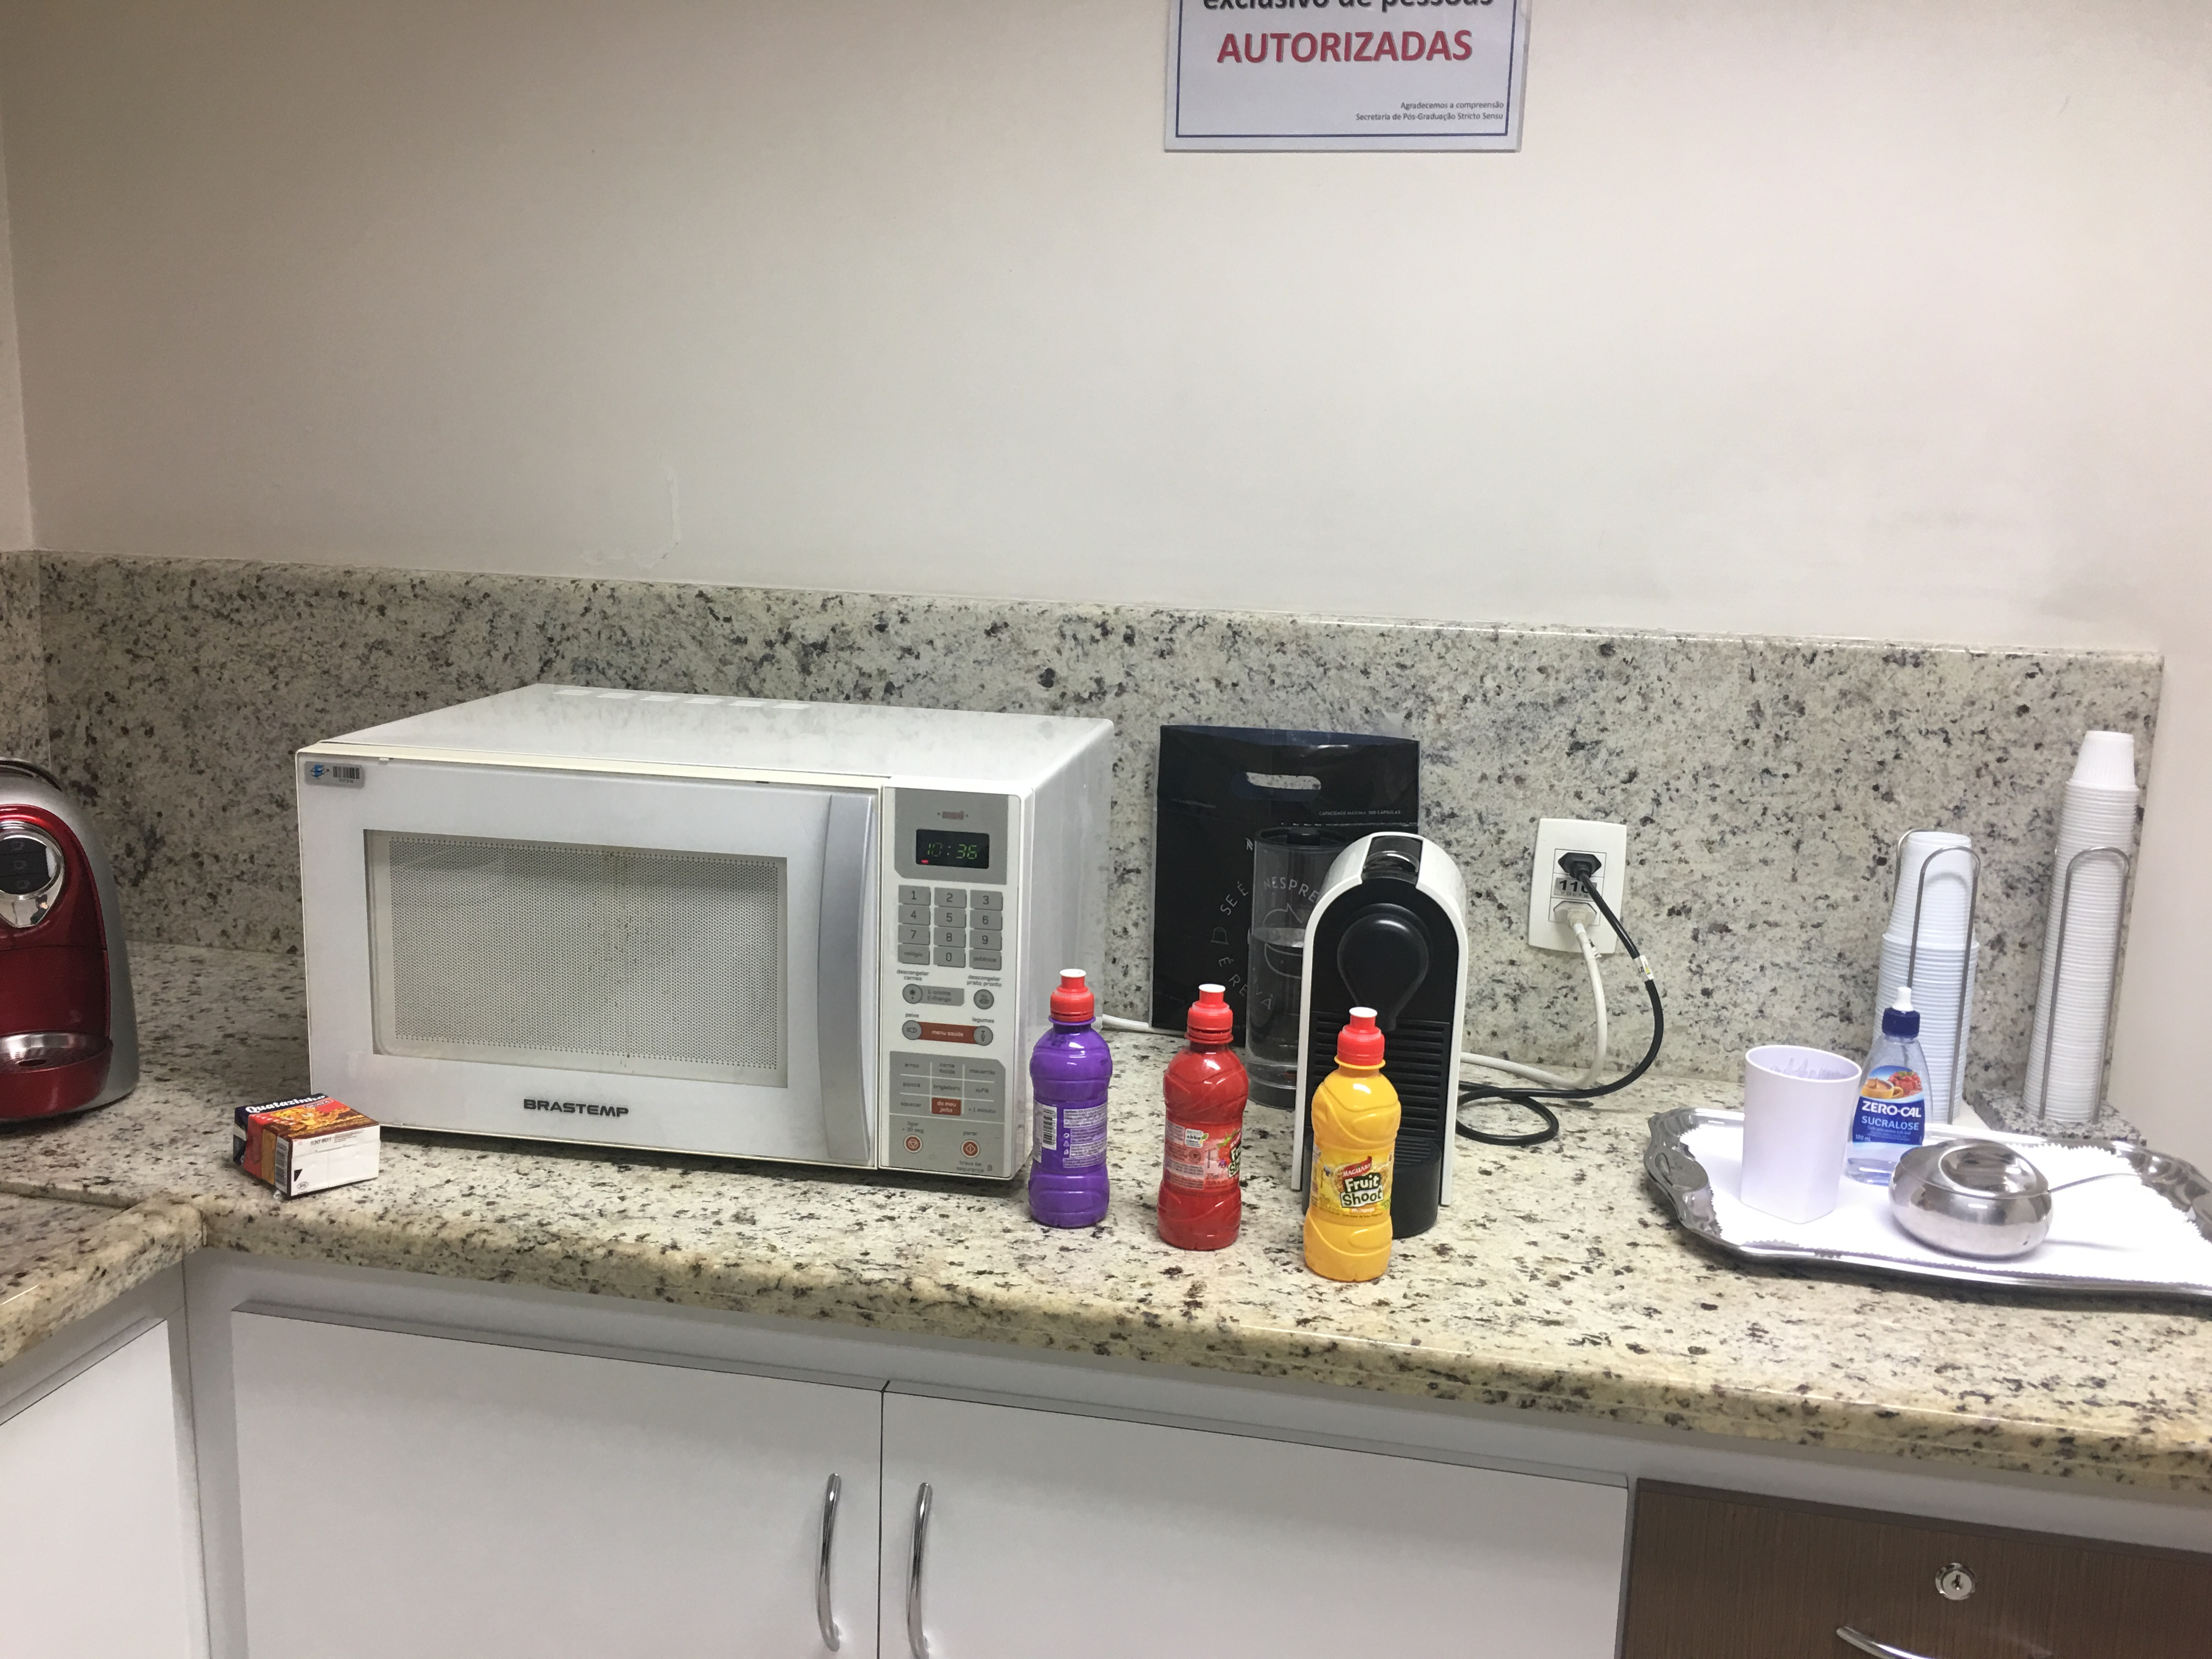chocolate_milk: (219, 1087, 388, 1201)
purple_juice: (1026, 955, 1116, 1239)
red_juice: (1153, 974, 1252, 1255)
yellow_juice: (1289, 1000, 1414, 1284)
